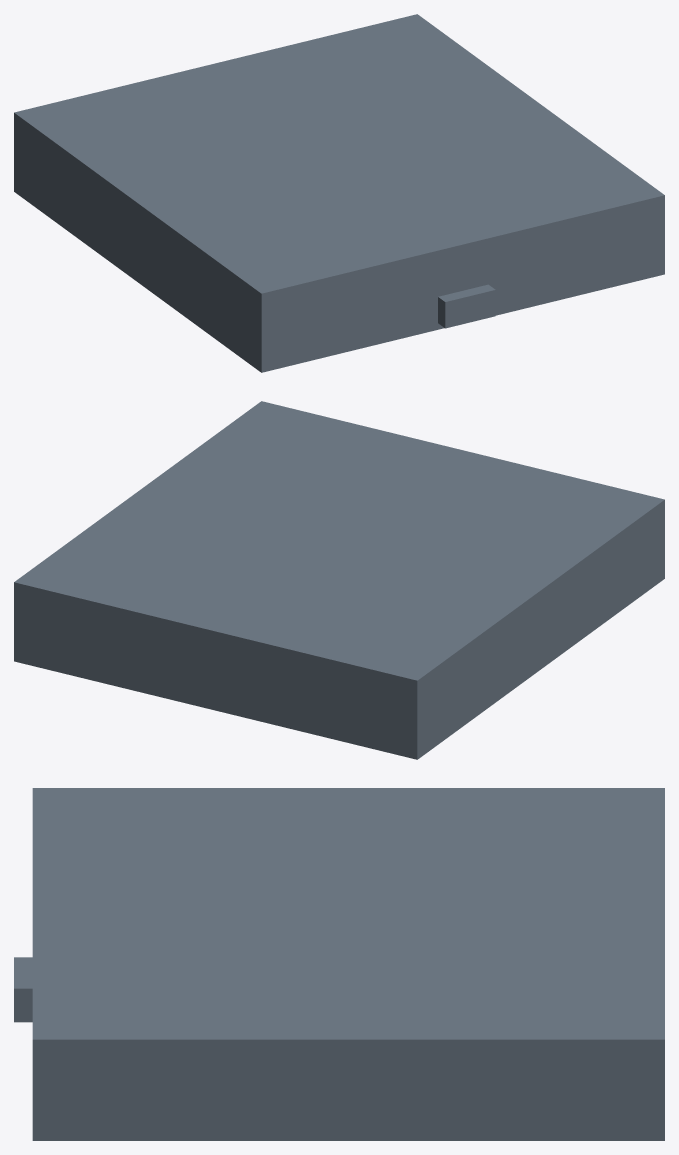
File: esp2026_sa7_life_vest.glb
The picture shows the model from 3 angles, top to bottom: view 1: azimuth 30°, elevation 25°; view 2: azimuth 150°, elevation 25°; view 3: azimuth 270°, elevation 25°; orthographic projection. The views are drawn at different scales.
Visible parts, largest first — view 1: life vest pouch; view 2: life vest pouch; view 3: life vest pouch.
Part boxes in pixels (x1=…): life vest pouch: x1=14, y1=14, x2=664, y2=372; life vest pouch: x1=14, y1=401, x2=664, y2=759; life vest pouch: x1=14, y1=788, x2=664, y2=1140.
Size of the model in its own units: 320 by 60 by 350.
